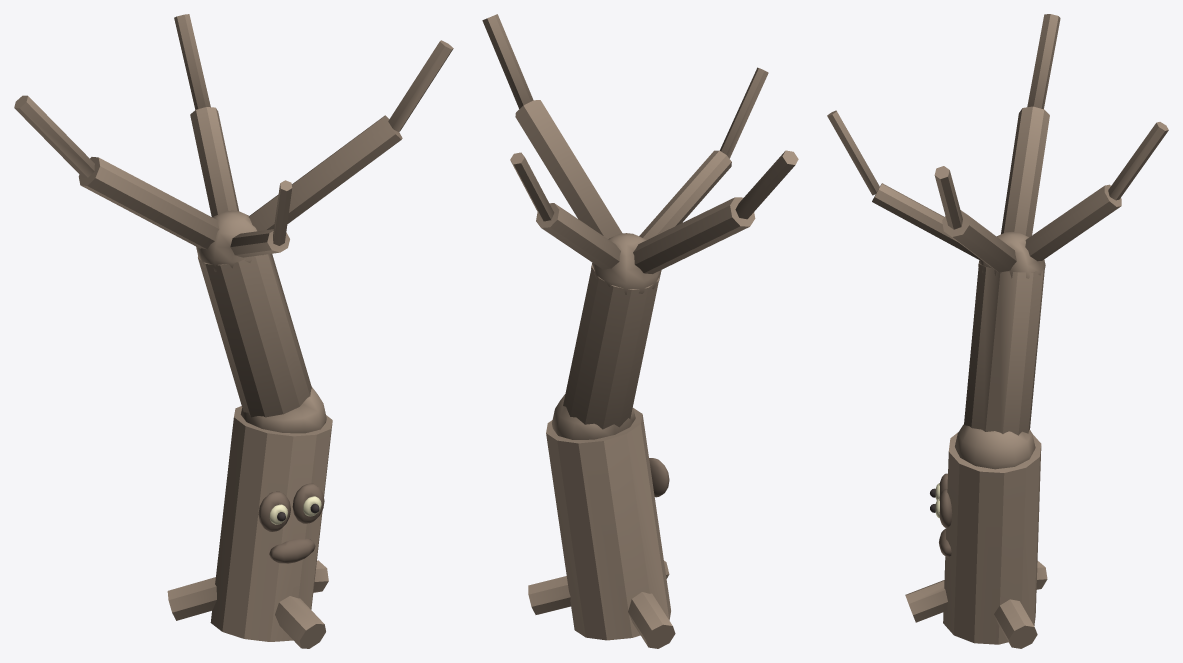
File: twistedTree.glb
3 renders of one model, left to right at view 1: azimuth 30°, elevation 25°; view 2: azimuth 150°, elevation 25°; view 3: azimuth 270°, elevation 25°, orthographic. The views are drawn at different scales.
Visible parts, largest first — view 1: TwistedTree; view 2: TwistedTree; view 3: TwistedTree.
Boxes of the visible parts, x1,y1,x2,y2 form: TwistedTree: (14, 14, 453, 648); TwistedTree: (482, 14, 798, 648); TwistedTree: (827, 14, 1168, 648).
Size of the model in its own units: 3.61 by 5.2 by 3.04.
